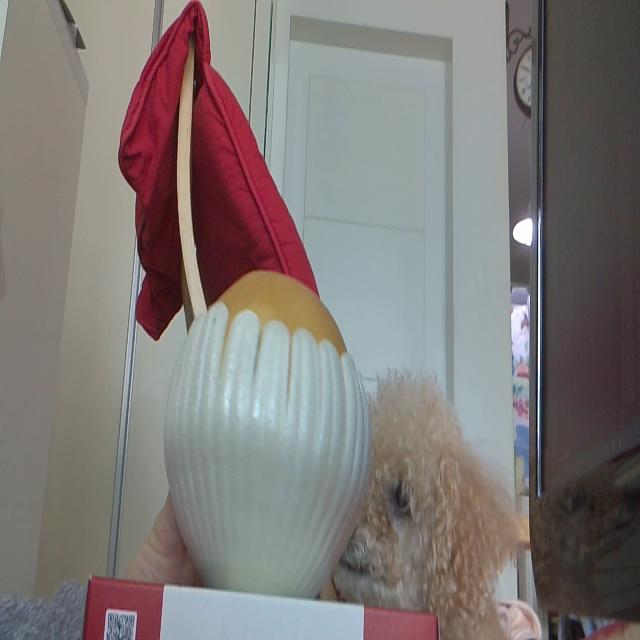pear: (165, 273, 372, 586)
